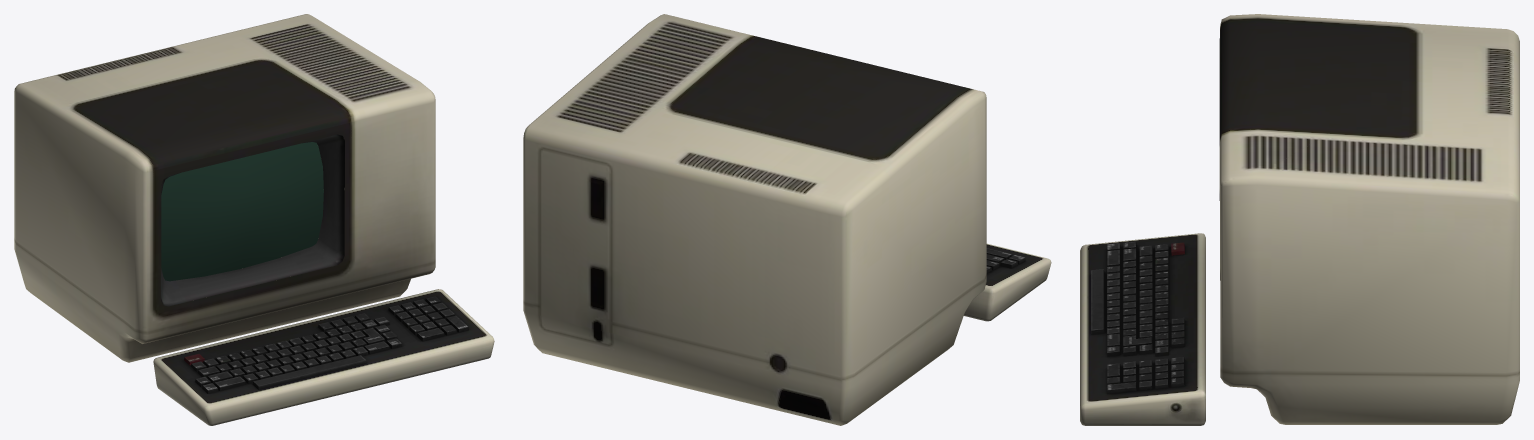
Rendered from vintage-terminal.glb.
3 renders of one model, left to right at view 1: azimuth 30°, elevation 25°; view 2: azimuth 150°, elevation 25°; view 3: azimuth 270°, elevation 25°, orthographic. The views are drawn at different scales.
Visible parts, largest first — view 1: case, screen, keyboard, keycaps, bezel; view 2: case, keyboard, keycaps; view 3: case, keyboard, keycaps.
Part boxes in pixels (box(x1,y1,x2,y2)): case: box(14, 14, 435, 362); screen: box(161, 142, 323, 281); keyboard: box(153, 289, 494, 425); keycaps: box(184, 296, 468, 393); bezel: box(161, 134, 344, 306); case: box(523, 14, 986, 425); keyboard: box(963, 243, 1051, 321); keycaps: box(986, 248, 1025, 273); case: box(1219, 14, 1519, 424); keyboard: box(1080, 233, 1205, 425); keycaps: box(1091, 241, 1184, 394).
Bounding box in the file's own units: 2.77 × 1.97 × 3.08.
5 materials, 4 textured.
